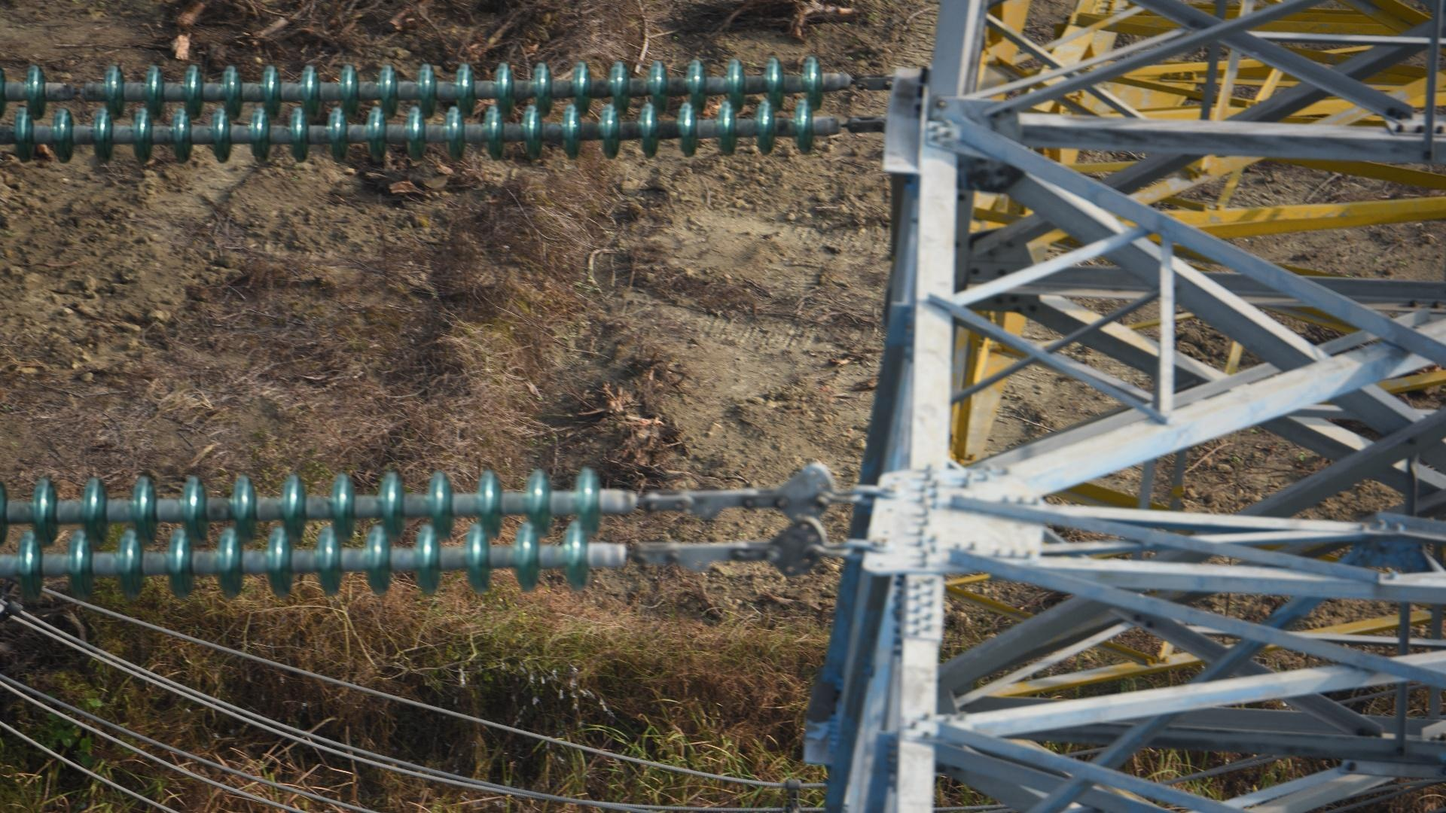insulator: (1, 47, 828, 172), (1, 459, 613, 606)
